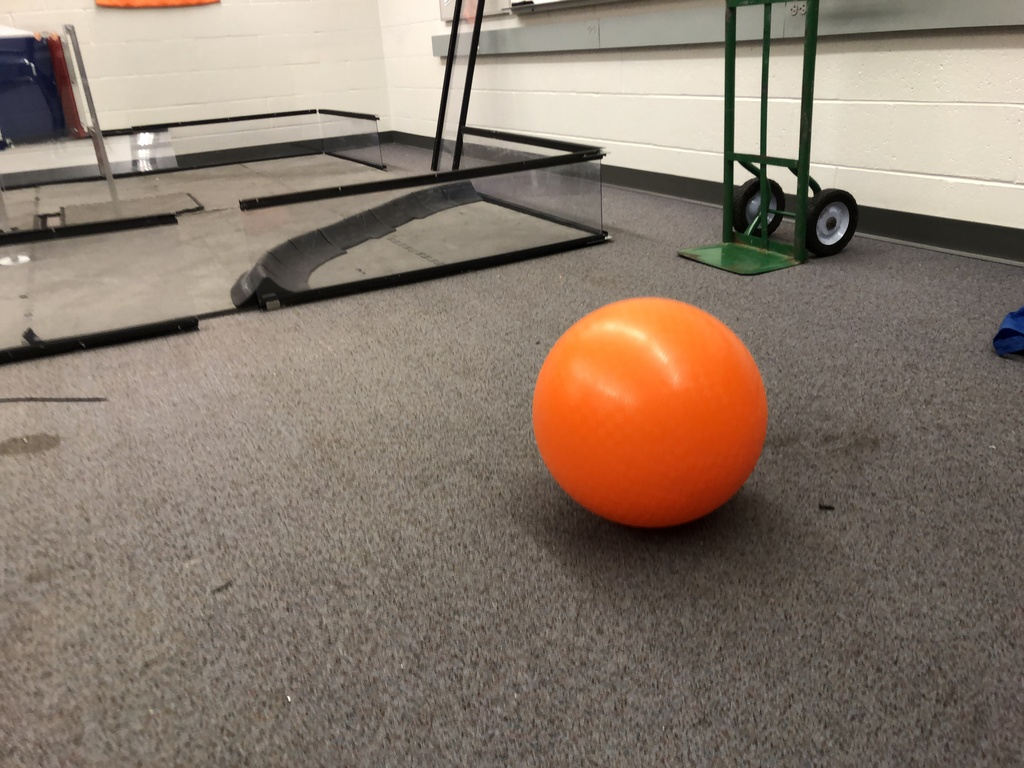cargo: (526, 290, 769, 543)
